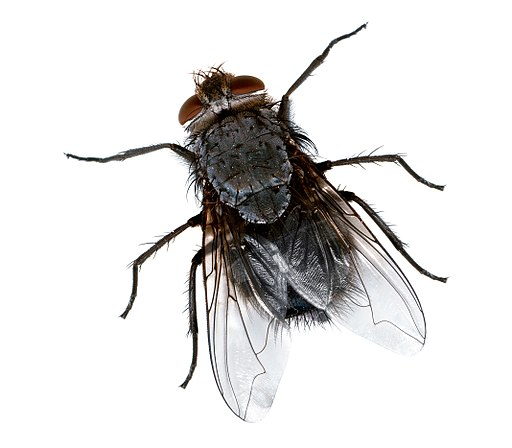fly: (57, 17, 451, 428)
